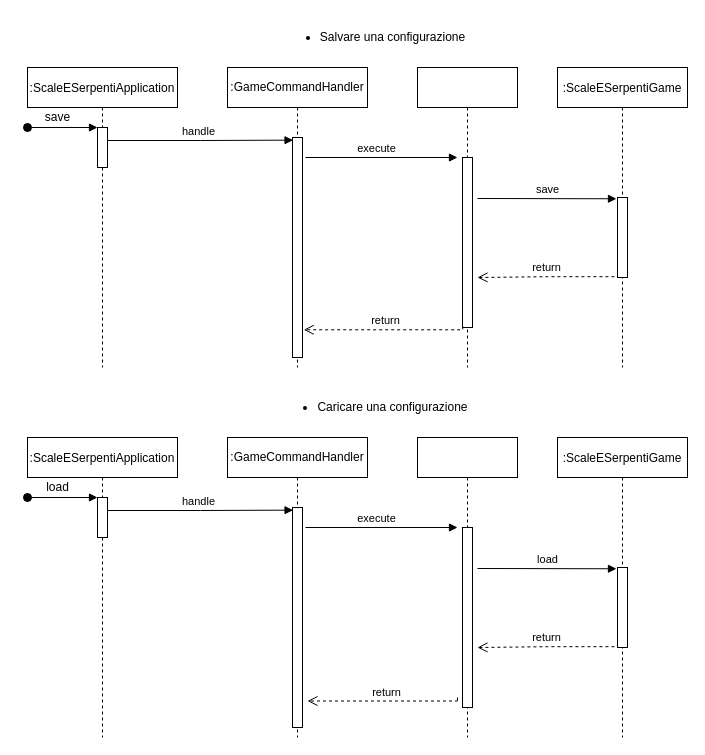
This 705x755 diagram has some shape labels left out. The box of each missing label's shape, as (x1, y1, x2, y2) in pixels:
:LoadCommand: (416, 436, 518, 738)
:SaveCommand: (416, 66, 518, 368)
